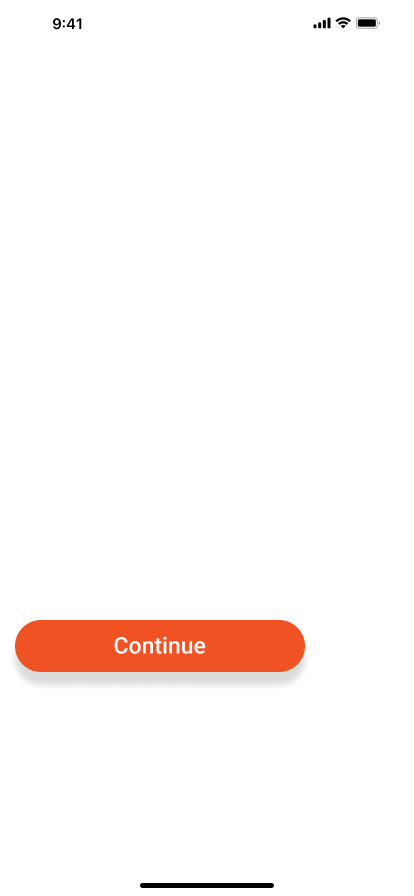Buttons: (8, 620, 312, 692)
Home Indicator: (0, 862, 414, 896)
Status Bar: (0, 0, 414, 44)
